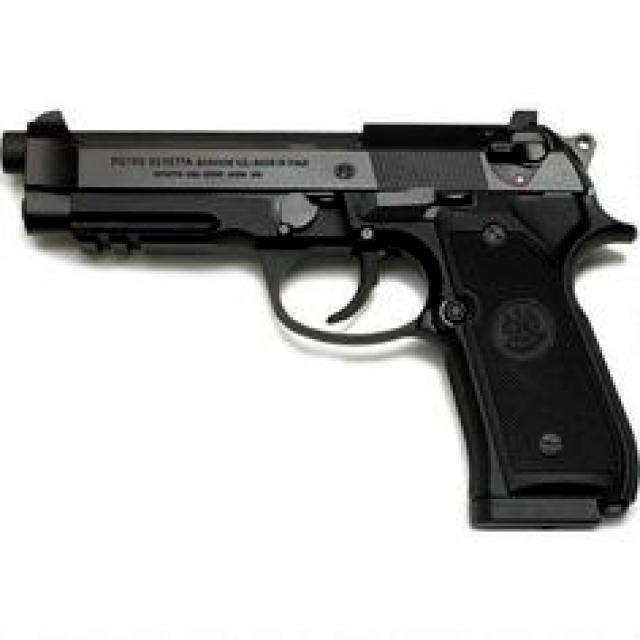semi automatic: (1, 94, 640, 552)
